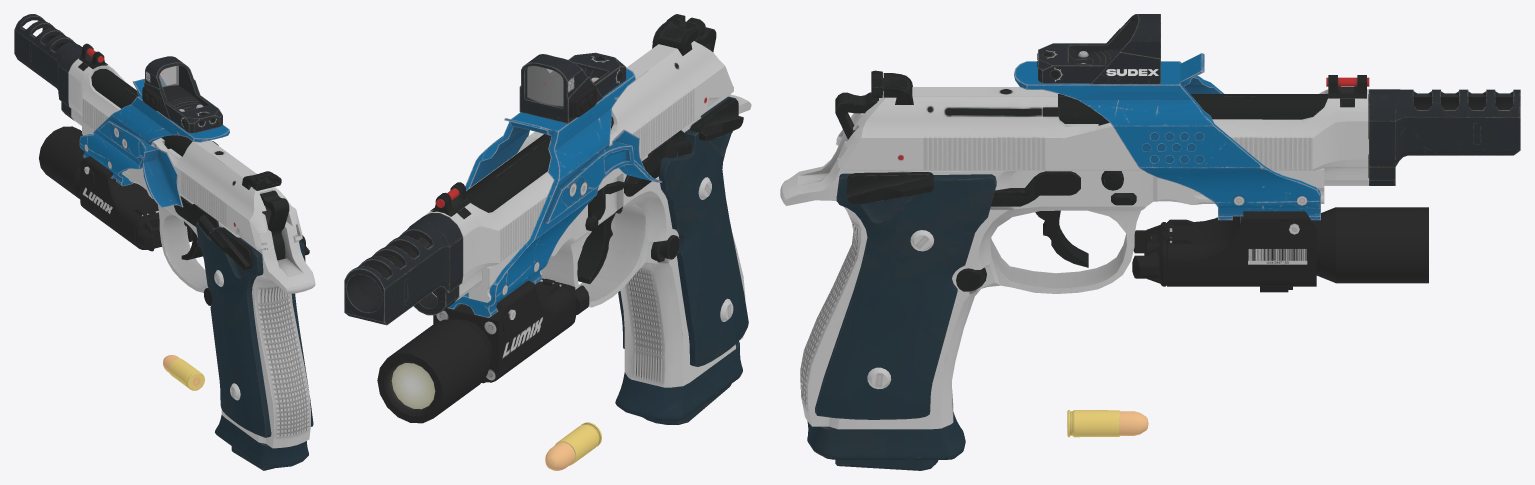
Rendered from gun.glb.
3 views of the same model, side by side, from view 1: azimuth 30°, elevation 25°; view 2: azimuth 150°, elevation 25°; view 3: azimuth 270°, elevation 25° (orthographic). The views are drawn at different scales.
Visible parts, largest first — view 1: Frame_low, Slide_low, Grip_low, Flash_low, Mount_low, Reddot_low, Compensentor_low, Magwell_low, Barrel_low, Hammer_low, Safety_low, Slide catch_low (+4 smaller); view 2: Frame_low, Flash_low, Slide_low, Mount_low, Grip_low, Compensentor_low, Reddot_low, Magwell_low, Barrel_low, Trigger_low, Slide catch_low, Rear sight_low (+8 smaller); view 3: Slide_low, Grip_low, Frame_low, Flash_low, Mount_low, Compensentor_low, Reddot_low, Magwell_low, Barrel_low, Safety_low, Trigger rod_low, Catridge_low (+6 smaller).
Boxes of the visible parts, x1=… form: Frame_low: x1=82, y1=120, x2=315, y2=448; Slide_low: x1=68, y1=58, x2=302, y2=250; Grip_low: x1=195, y1=222, x2=313, y2=437; Flash_low: x1=39, y1=126, x2=192, y2=251; Mount_low: x1=79, y1=75, x2=229, y2=207; Reddot_low: x1=142, y1=56, x2=222, y2=133; Compensentor_low: x1=14, y1=14, x2=82, y2=120; Magwell_low: x1=215, y1=415, x2=308, y2=467; Barrel_low: x1=91, y1=69, x2=192, y2=156; Hammer_low: x1=260, y1=190, x2=289, y2=260; Safety_low: x1=210, y1=227, x2=309, y2=270; Slide catch_low: x1=174, y1=196, x2=219, y2=237; Frame_low: x1=468, y1=94, x2=751, y2=387; Flash_low: x1=377, y1=278, x2=589, y2=423; Slide_low: x1=424, y1=41, x2=733, y2=301; Mount_low: x1=447, y1=68, x2=662, y2=317; Grip_low: x1=618, y1=96, x2=748, y2=366; Compensentor_low: x1=344, y1=213, x2=463, y2=325; Reddot_low: x1=519, y1=52, x2=626, y2=123; Magwell_low: x1=615, y1=341, x2=742, y2=420; Barrel_low: x1=413, y1=116, x2=613, y2=247; Trigger_low: x1=577, y1=212, x2=615, y2=283; Slide catch_low: x1=624, y1=130, x2=692, y2=196; Rear sight_low: x1=652, y1=14, x2=705, y2=55; Slide_low: x1=836, y1=87, x2=1368, y2=185; Grip_low: x1=815, y1=173, x2=996, y2=419; Frame_low: x1=780, y1=113, x2=1324, y2=429; Flash_low: x1=1132, y1=207, x2=1428, y2=292; Mount_low: x1=1014, y1=53, x2=1320, y2=220; Compensentor_low: x1=1368, y1=89, x2=1520, y2=185; Reddot_low: x1=1037, y1=14, x2=1160, y2=84; Magwell_low: x1=807, y1=412, x2=965, y2=459; Barrel_low: x1=1058, y1=94, x2=1368, y2=138; Safety_low: x1=847, y1=172, x2=933, y2=204; Trigger rod_low: x1=991, y1=171, x2=1080, y2=206; Catridge_low: x1=1067, y1=410, x2=1119, y2=437.
Bounding box in the file's own units: 0.047 × 0.1778 × 0.2708.
Materials: 3 (3 with a texture image).
